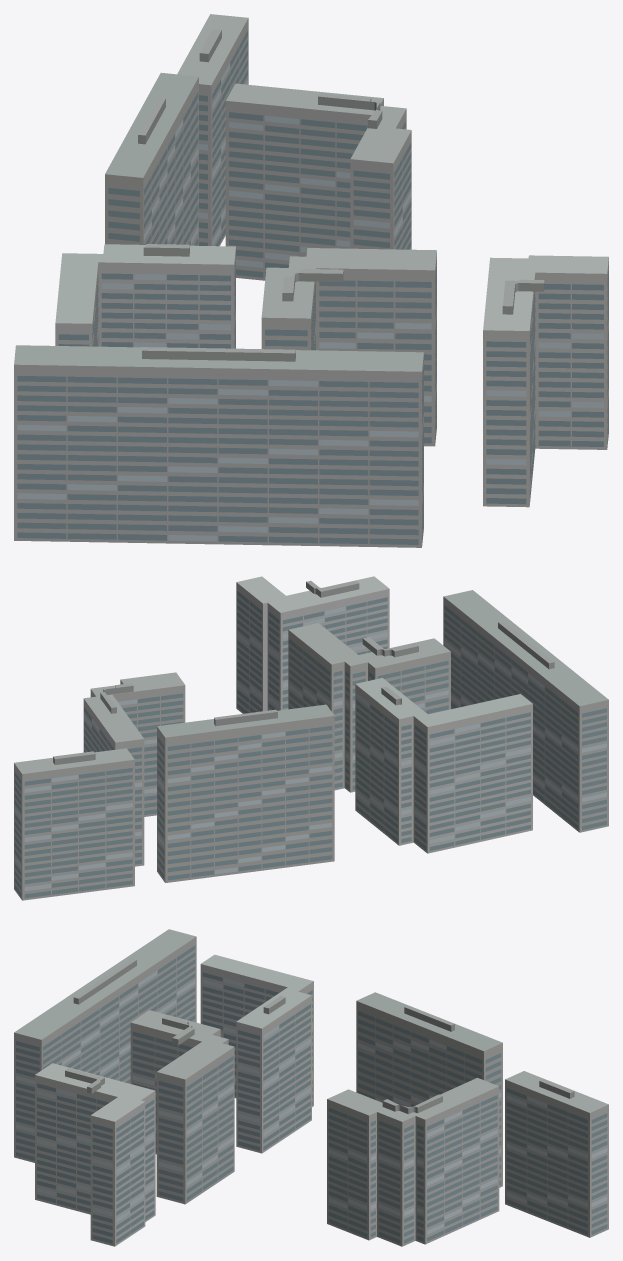
The model's file is apt-a13887302.glb.
3 views of the same model, one above another, from view 1: azimuth 30°, elevation 25°; view 2: azimuth 150°, elevation 25°; view 3: azimuth 270°, elevation 25° (orthographic). The views are drawn at different scales.
Visible parts, largest first — view 1: apt-a13887302; view 2: apt-a13887302; view 3: apt-a13887302.
Boxes of the visible parts, <box> form: apt-a13887302: <box>14,14,608,547</box>; apt-a13887302: <box>14,576,608,900</box>; apt-a13887302: <box>14,929,608,1246</box>.
Size of the model in its own units: 158 by 57.3 by 206.
